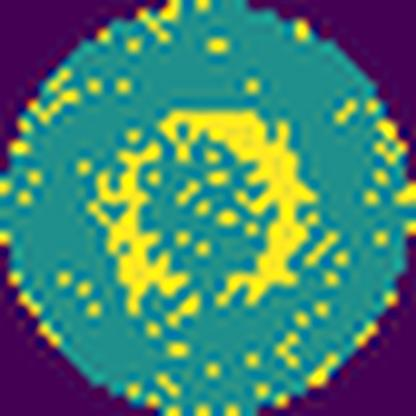Donut: (90, 100, 339, 340)
